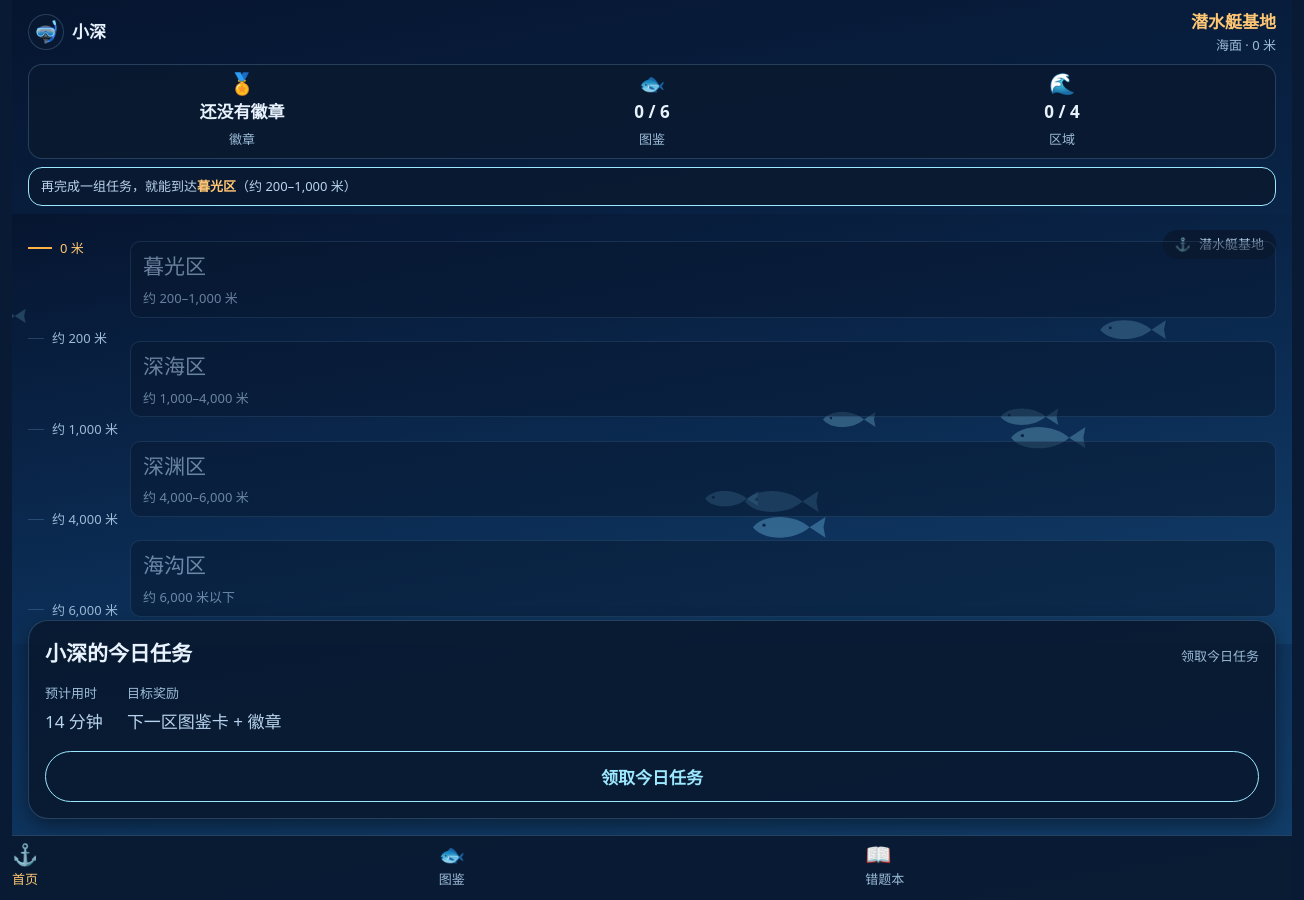
Test: views: HomeView › 点「领取今日任务」经 buildDailyQuest 写入 session-started，随后变为可下潜状态
Click the button with test id "quest-claim" at [652, 776], box [45,751,1259,802]
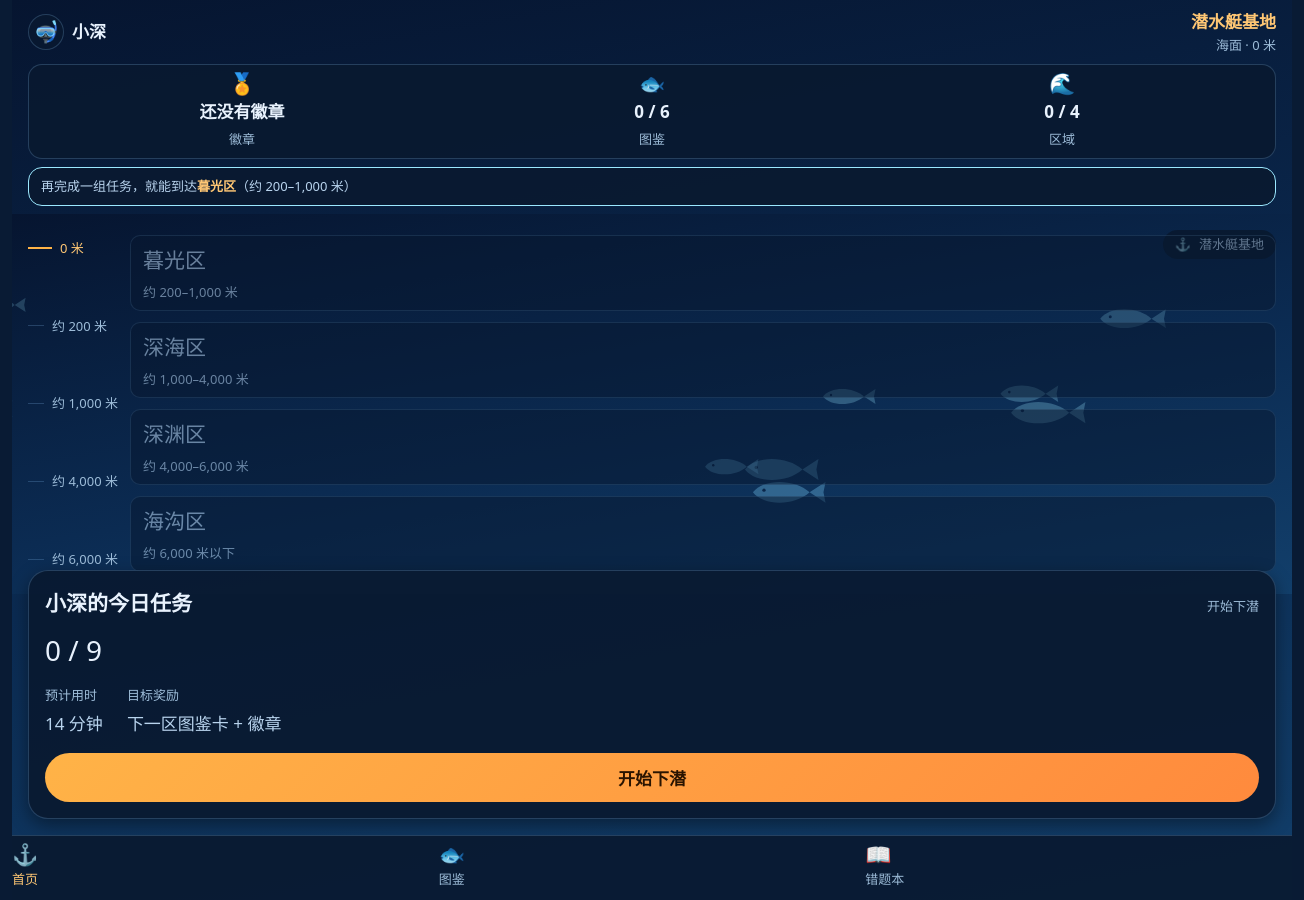
Expected: the text with test id "quest-progress" reads "0 / 9", [45,631,102,669]
